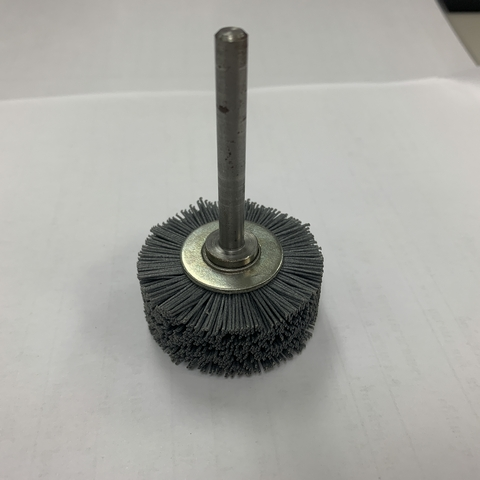Wheel Brush: (140, 21, 384, 370), (109, 184, 440, 399), (126, 34, 281, 382)
